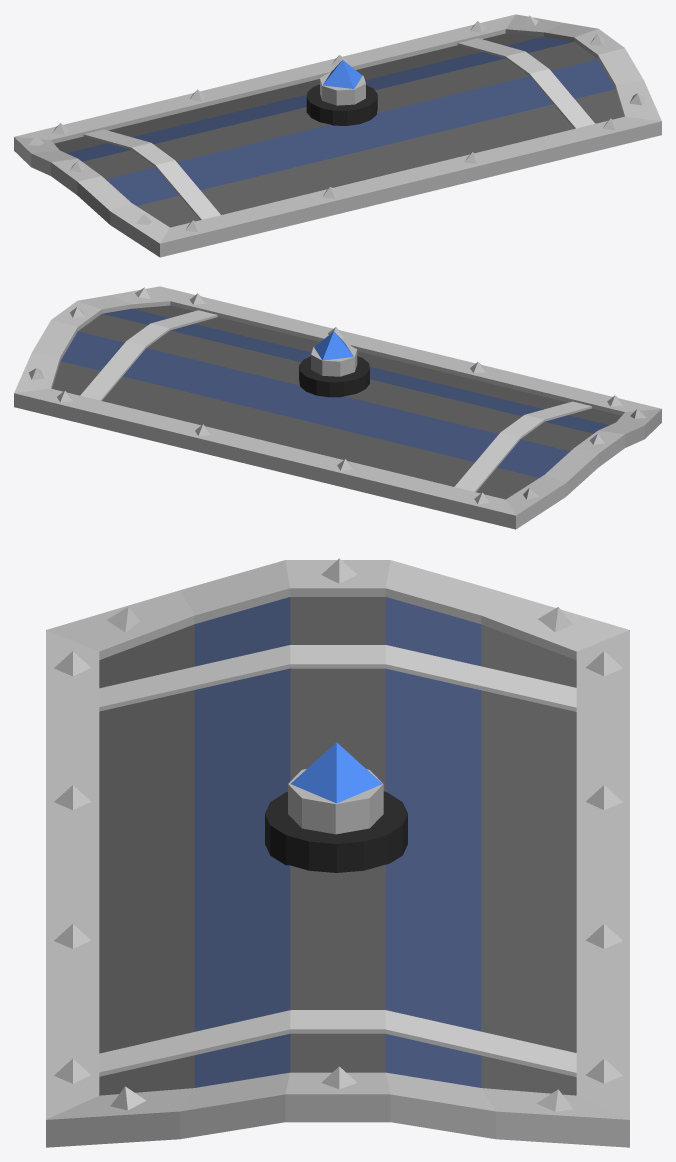
The model's file is Shield_2_d_bl.fbx.
The picture shows the model from 3 angles, top to bottom: view 1: azimuth 30°, elevation 25°; view 2: azimuth 150°, elevation 25°; view 3: azimuth 270°, elevation 25°; orthographic projection. The views are drawn at different scales.
Parts seen in each view (by area): view 1: Plane.177, Plane.176, Plane.178, Plane.180, Plane.179, Circle.318, Cone.382, Circle.317, Cone.381; view 2: Plane.177, Plane.176, Plane.178, Plane.179, Plane.180, Circle.318, Cone.382, Circle.317, Cone.381; view 3: Plane.176, Plane.177, Plane.178, Plane.180, Plane.179, Circle.318, Cone.382, Circle.317, Cone.381.
Boxes of the visible parts, box(x1,y1,x2,y2) form: Plane.177: box(14, 14, 661, 257); Plane.176: box(54, 33, 623, 227); Plane.178: box(66, 36, 615, 205); Plane.180: box(457, 38, 595, 128); Plane.179: box(83, 129, 220, 219); Circle.318: box(306, 84, 377, 125); Cone.382: box(28, 15, 645, 231); Circle.317: box(320, 72, 365, 105); Cone.381: box(323, 60, 362, 88); Plane.177: box(14, 286, 661, 529); Plane.176: box(52, 305, 621, 499); Plane.178: box(60, 308, 609, 477); Plane.179: box(454, 401, 591, 492); Plane.180: box(80, 310, 217, 400); Circle.318: box(299, 356, 369, 397); Cone.382: box(28, 287, 646, 504); Circle.317: box(311, 343, 357, 376); Cone.381: box(314, 331, 353, 360); Plane.176: box(99, 597, 576, 1095); Plane.177: box(46, 560, 629, 1147); Plane.178: box(194, 597, 481, 1087); Plane.180: box(99, 1010, 576, 1076); Plane.179: box(99, 645, 576, 711); Circle.318: box(265, 791, 407, 872); Cone.382: box(54, 558, 622, 1111); Circle.317: box(288, 769, 383, 834); Cone.381: box(291, 742, 382, 803).
Bounding box in the file's own units: 132 × 24.84 × 61.17.
